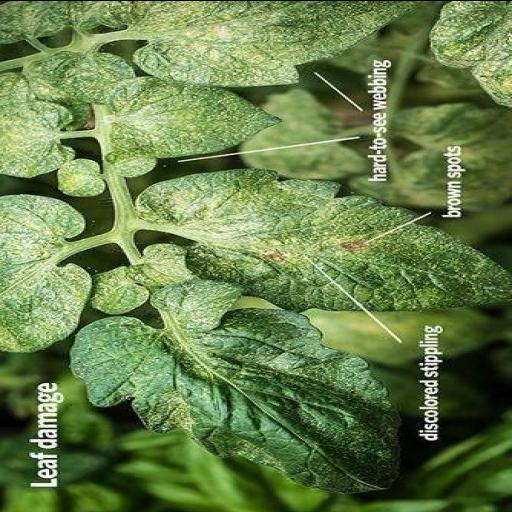disease_tomato: (68, 281, 400, 493), (135, 166, 512, 314), (95, 0, 423, 84), (0, 193, 94, 352), (108, 75, 284, 157)
